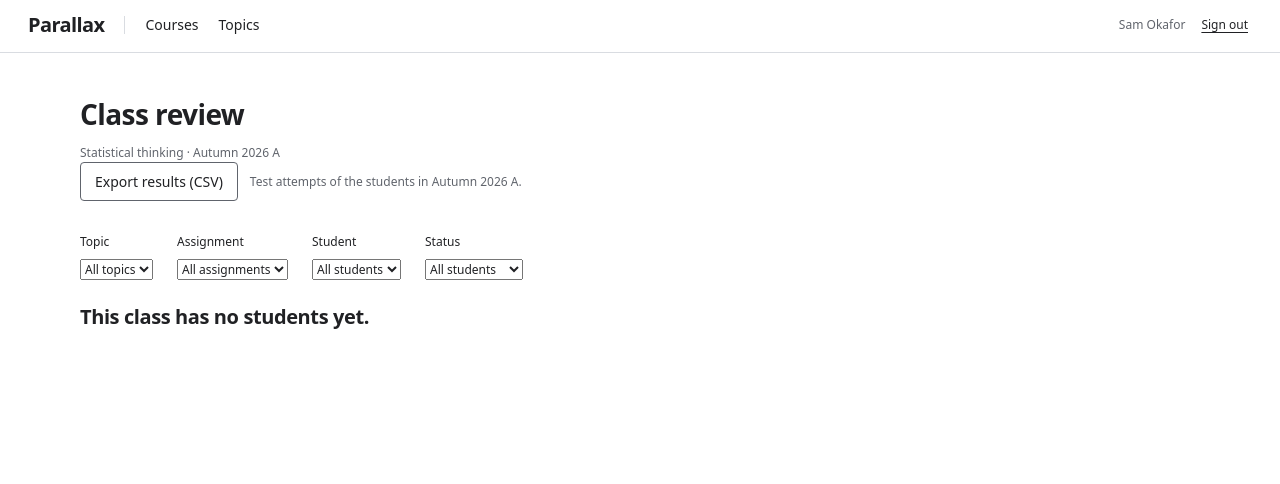
Test case: results export › A21 a failed export says nothing was downloaded, offers a retry and shows no link
The image size is (1280, 484).
Click the button "Export results (CSV)": [159, 182] box x1=80 y1=162 x2=238 y2=201
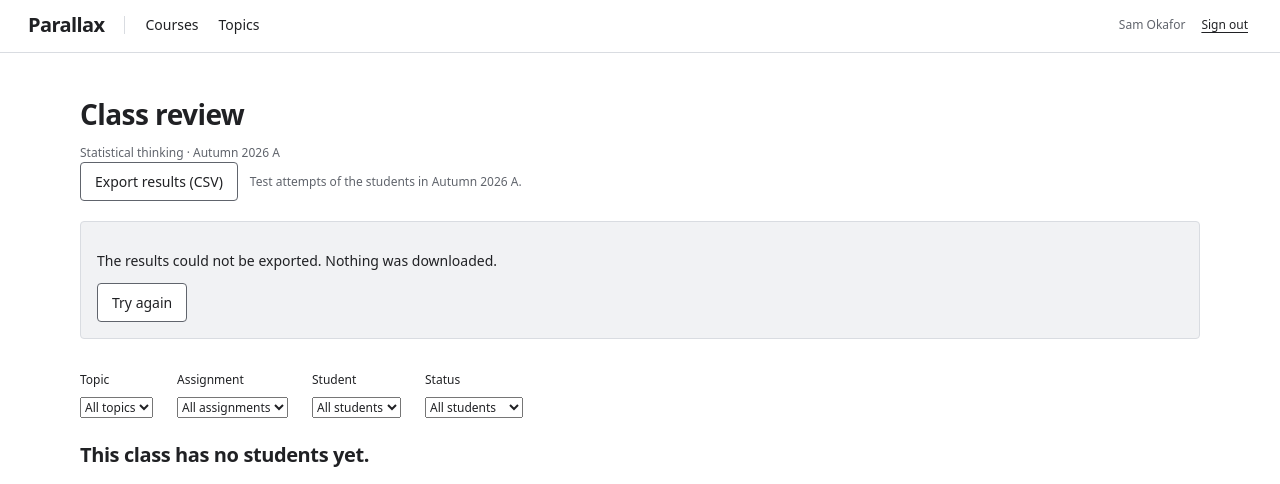
Expected: the link "Download results" is not shown
Now the message shows "Nothing was downloaded", box x1=97 y1=251 x2=497 y2=270
Click the button "Try again": [142, 302] box x1=97 y1=283 x2=187 y2=322
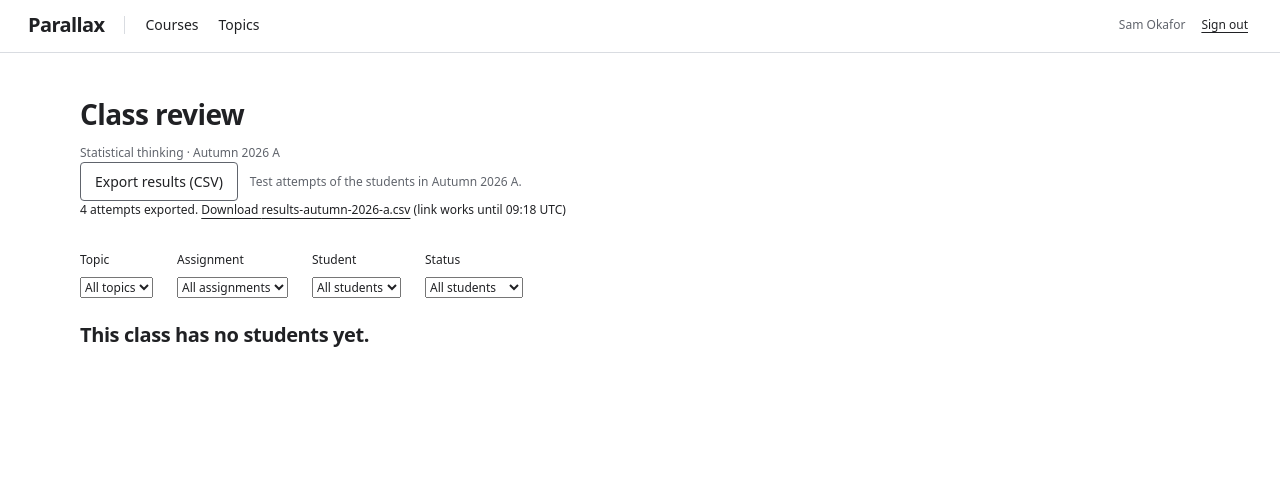
Now the link "Download results-autumn-2026-a.csv" is shown, box x1=201 y1=201 x2=410 y2=218
